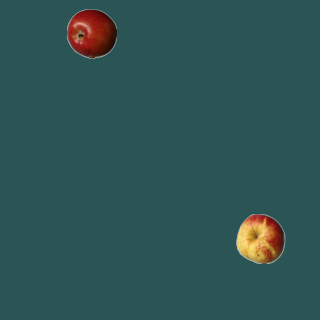Apple Braeburn: (66, 8, 116, 58)
Apple Red Yellow 1: (235, 213, 285, 263)
